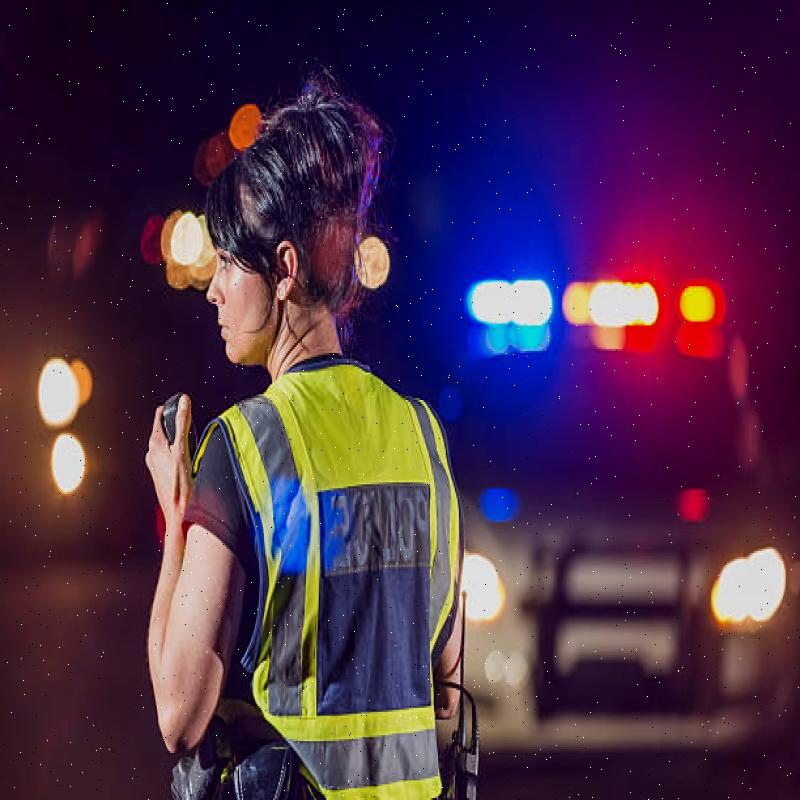AmbulanceSiren: (448, 219, 737, 350)
